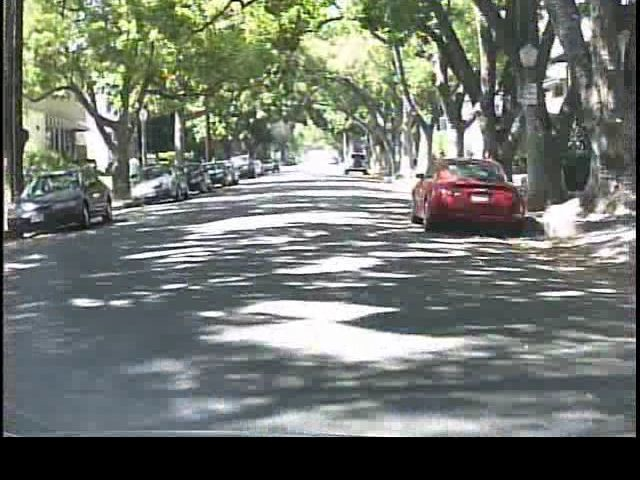person: (126, 149, 147, 194)
